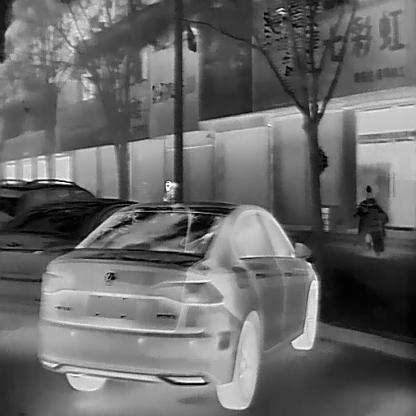car: (35, 202, 320, 409), (1, 197, 142, 340), (0, 177, 93, 226)
